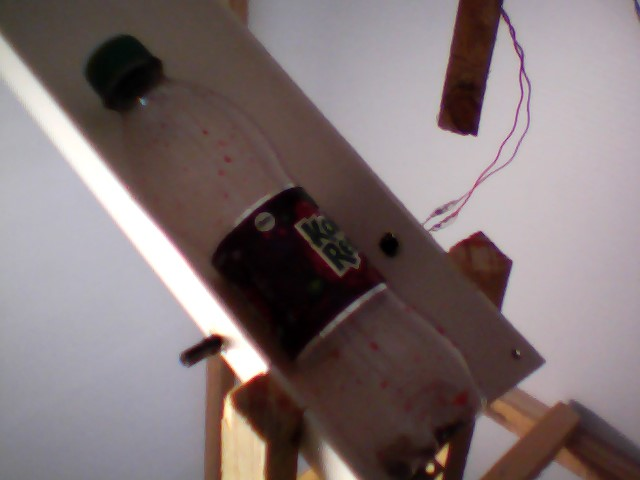plastico: (82, 31, 495, 480)
